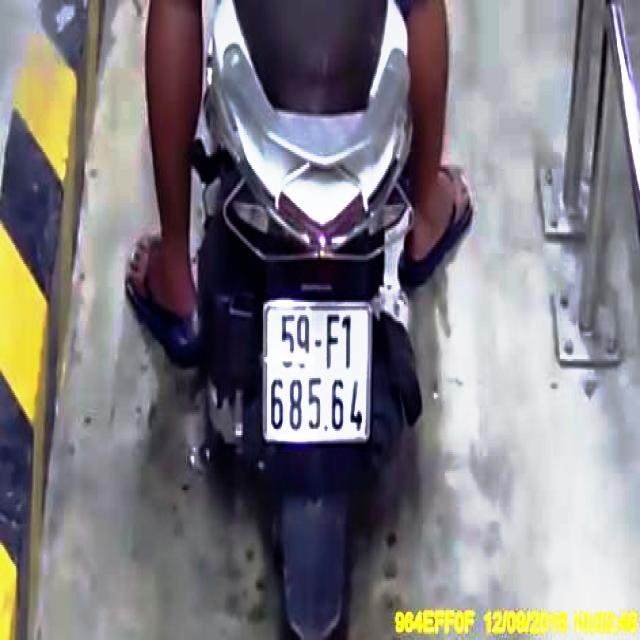license_plate: (266, 309, 373, 444)
